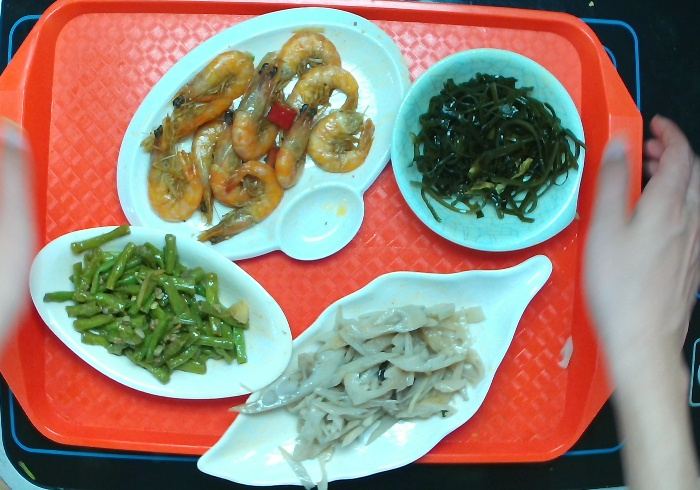RJxy-Bai_Se_Tuo_Yuan: (25, 215, 301, 406)
RJxy-Shu_Ye_Pan: (188, 249, 557, 486)
RJxy-Xiao_Jiao_Yuan_Wan: (387, 43, 602, 265)
RJxy-Zhan_Liao_Pan: (110, 4, 415, 270)
